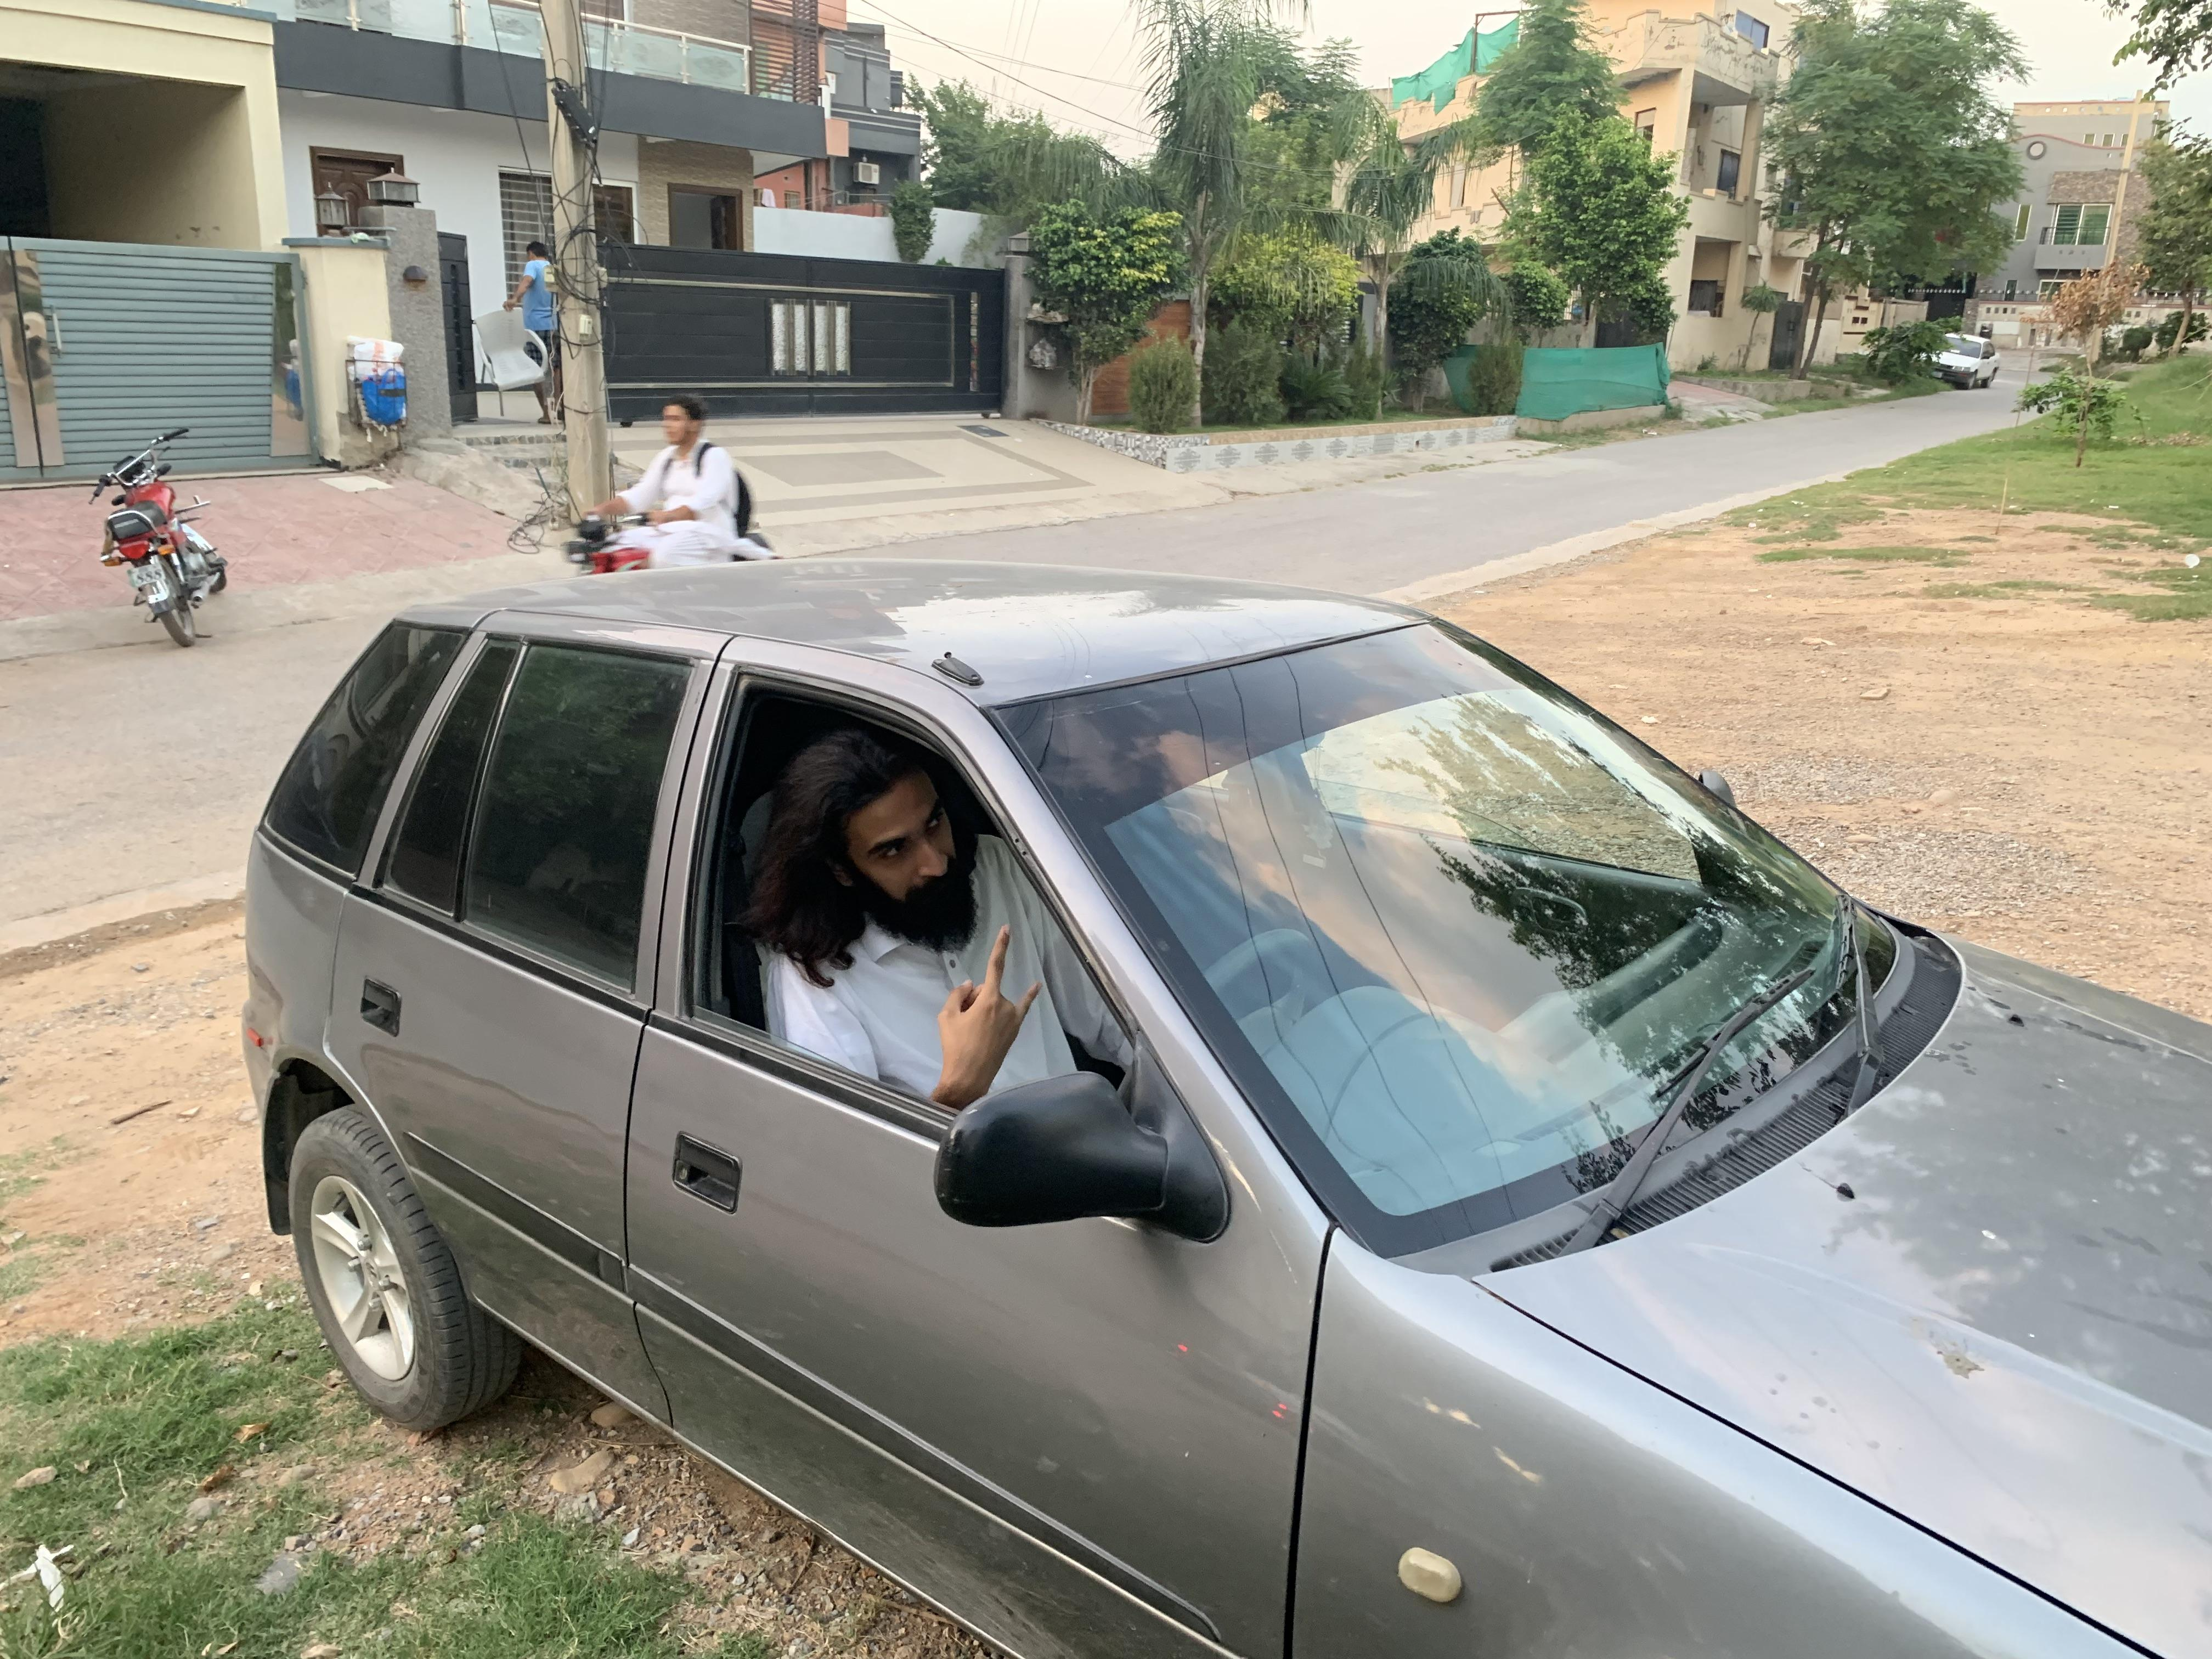windshield: (967, 603, 1959, 1267)
